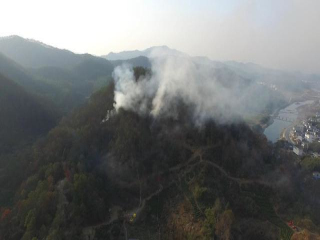smoke: (106, 37, 262, 132)
